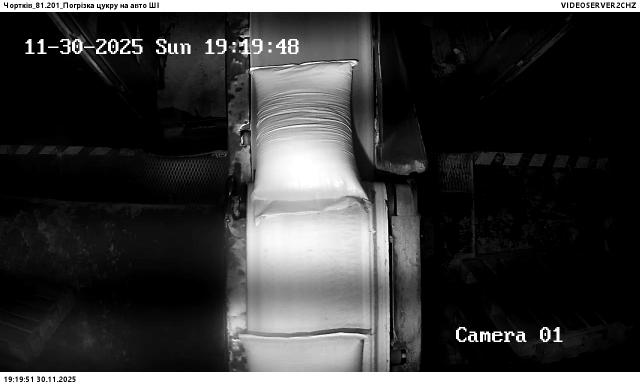bag: (252, 61, 373, 226), (240, 333, 368, 371)
